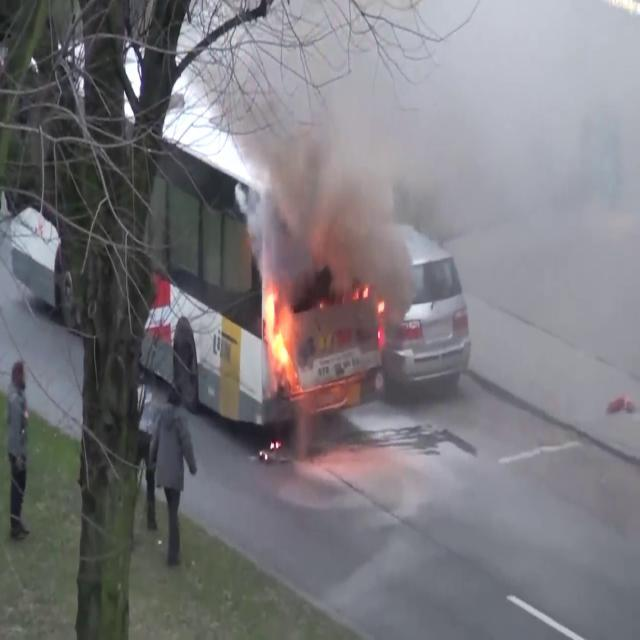Fire: (259, 282, 294, 378)
Smoke: (228, 1, 510, 291)
